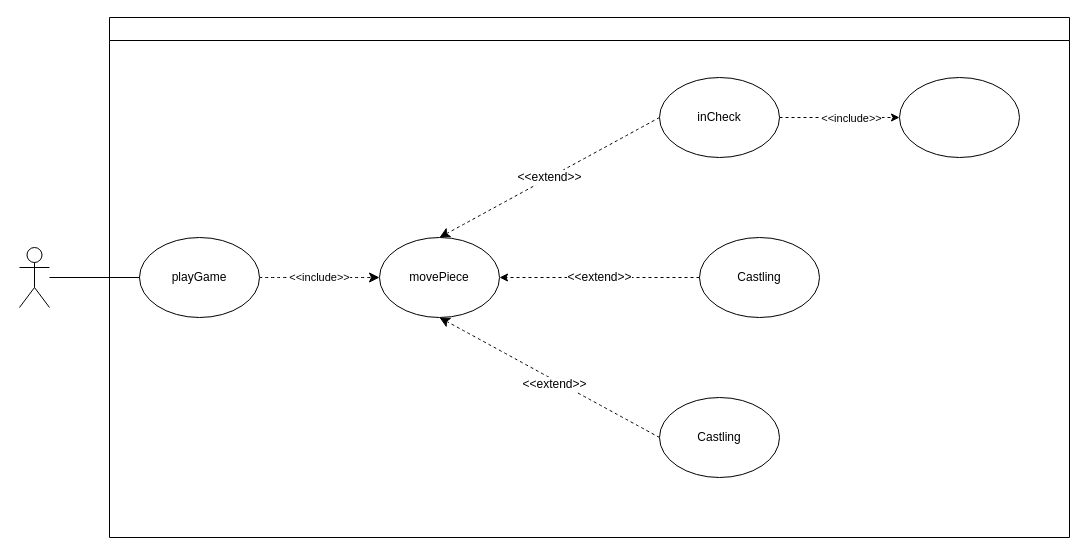
The diagram is 1087 pixels wide and 555 high, and some of its shapes have lost their labels. The shapes that lost their labels are listed below. From the top down, each one's centre as x and y in pixels, then its label:
[959,117]: checkmate
[34,277]: Player
